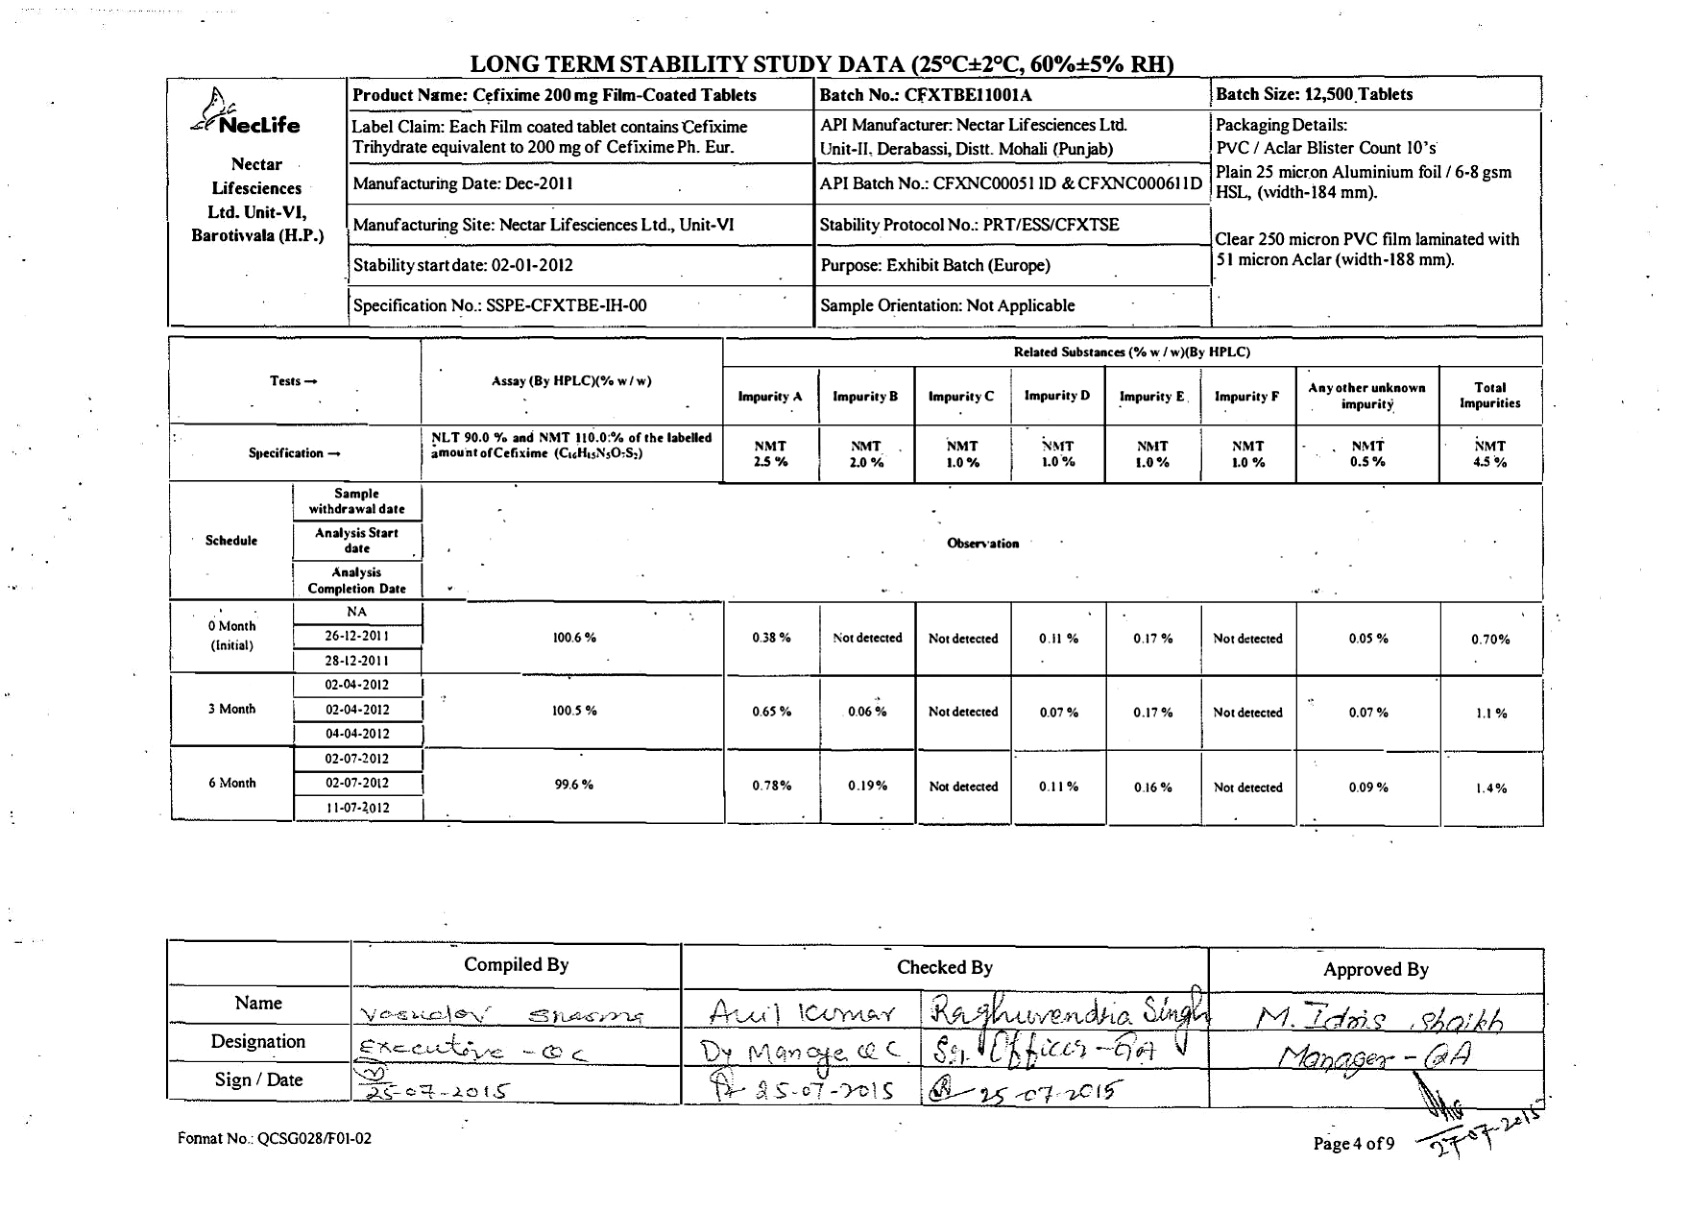merged_cells: (167, 333, 1545, 828), (167, 75, 1545, 329), (164, 937, 1546, 1111)
